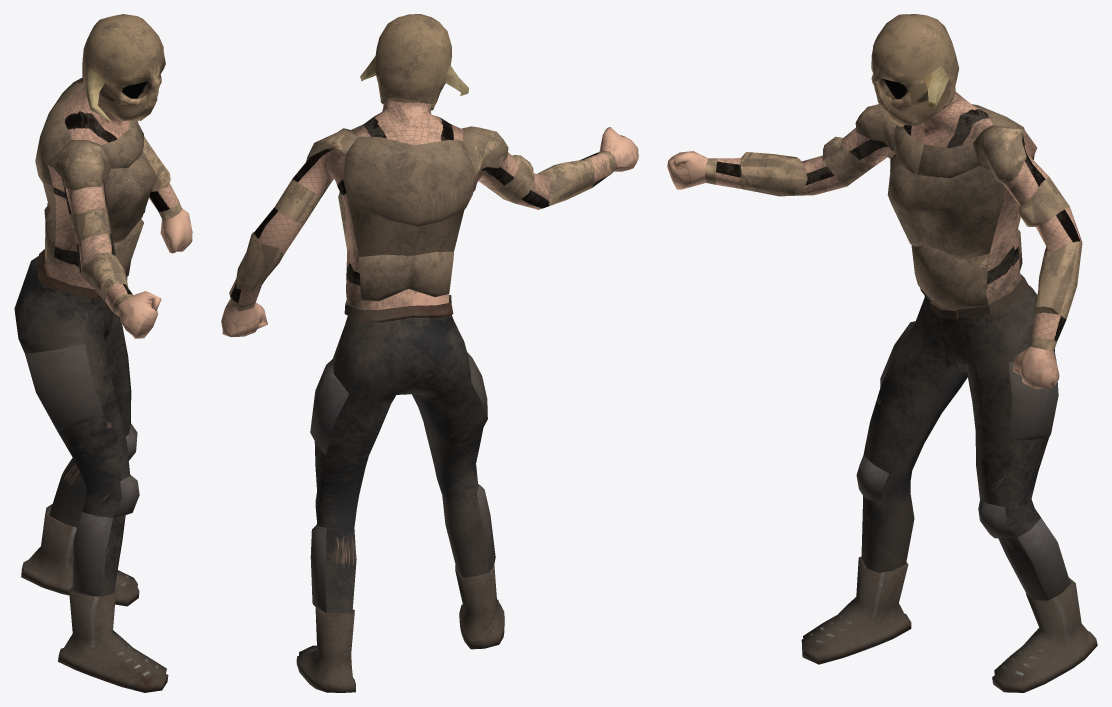
The model's file is Anim_interruptor_npc1.0025.obj.
The picture shows the model from 3 angles, left to right: view 1: azimuth 30°, elevation 25°; view 2: azimuth 150°, elevation 25°; view 3: azimuth 270°, elevation 25°; orthographic projection. The views are drawn at different scales.
Visible parts, largest first — view 1: NPC2; view 2: NPC2; view 3: NPC2.
Part boxes in pixels (left/top/right/bottom): NPC2: left=14, top=14, right=192, bottom=692; NPC2: left=221, top=14, right=638, bottom=692; NPC2: left=667, top=14, right=1097, bottom=692.
Size of the model in its own units: 3.76 by 9.36 by 5.64.
